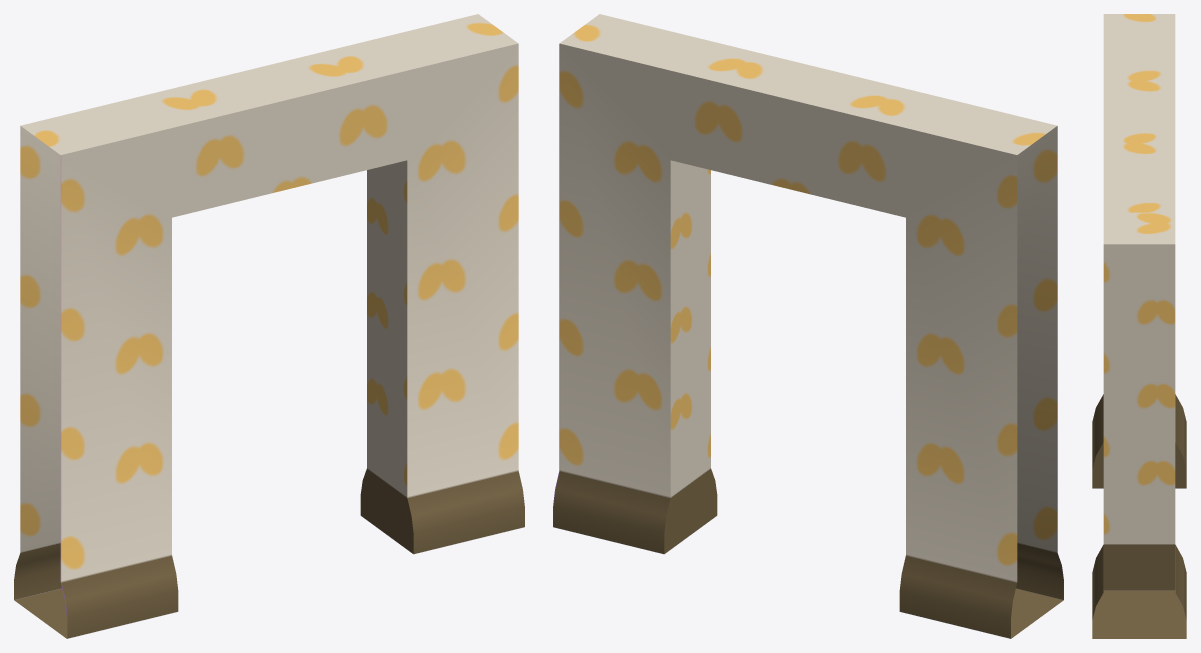
The model's file is Wall_DoorOpening.FBX.
The picture shows the model from 3 angles, left to right: view 1: azimuth 30°, elevation 25°; view 2: azimuth 150°, elevation 25°; view 3: azimuth 270°, elevation 25°; orthographic projection. The views are drawn at different scales.
Visible parts, largest first — view 1: Meur_Opening; view 2: Meur_Opening; view 3: Meur_Opening.
Boxes of the visible parts, x1,y1,x2,y2 form: Meur_Opening: [14, 14, 524, 638]; Meur_Opening: [553, 14, 1063, 638]; Meur_Opening: [1092, 14, 1186, 638].
Bounding box in the file's own units: 250 × 250 × 50.
Materials: 1 (1 with a texture image).
